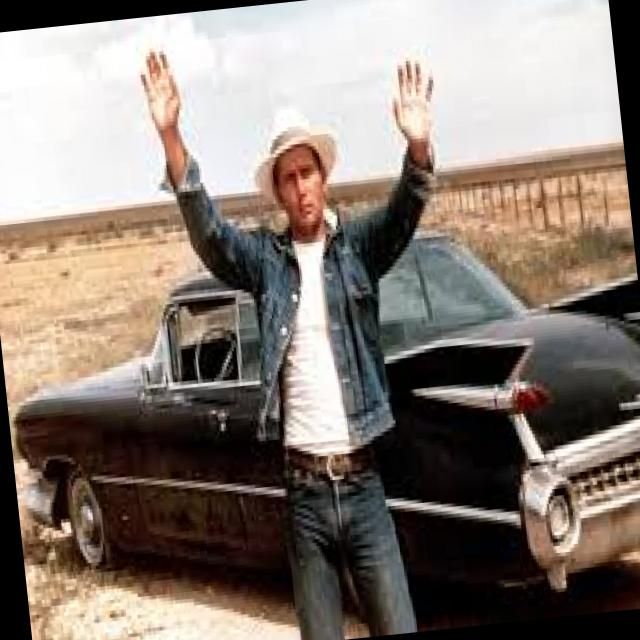Jacket: (188, 145, 476, 464)
